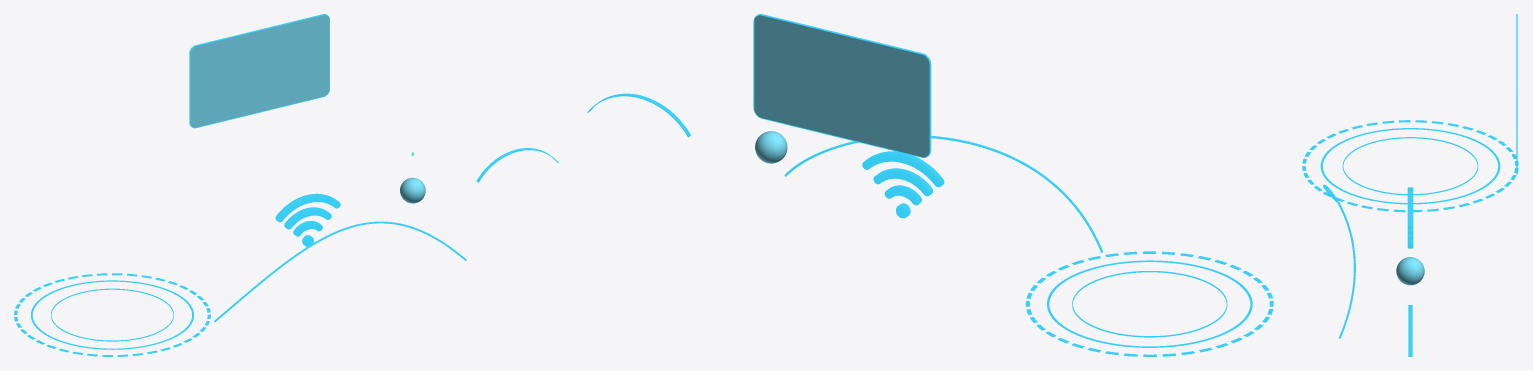
The model's file is holo_kit.glb.
3 renders of one model, left to right at view 1: azimuth 30°, elevation 25°; view 2: azimuth 150°, elevation 25°; view 3: azimuth 270°, elevation 25°, orthographic. The views are drawn at different scales.
Visible parts, largest first — view 1: Holo_Panel, Holo_Ring_Segmented, Holo_Ring_A, Holo_Path, Holo_WiFi_Arc3, Holo_Node, Holo_Ring_B, Holo_WiFi_Arc2; view 2: Holo_Panel, Holo_Ring_Segmented, Holo_Ring_A, Holo_WiFi_Arc3, Holo_Path, Holo_Node, Holo_Ring_B, Holo_WiFi_Arc2; view 3: Holo_Ring_Segmented, Holo_Ring_A, Holo_Node, Holo_Ring_B, Holo_Path, Holo_Panel, Holo_WiFi_Arc3, Holo_Wave.
Boxes of the visible parts, bbox=[...] form: Holo_Panel: bbox=[189, 14, 329, 128]; Holo_Ring_Segmented: bbox=[14, 273, 210, 356]; Holo_Ring_A: bbox=[31, 280, 193, 349]; Holo_Path: bbox=[214, 221, 466, 322]; Holo_WiFi_Arc3: bbox=[275, 193, 340, 222]; Holo_Node: bbox=[400, 177, 425, 203]; Holo_Ring_B: bbox=[51, 288, 173, 341]; Holo_WiFi_Arc2: bbox=[284, 207, 331, 229]; Holo_Panel: bbox=[753, 14, 931, 157]; Holo_Ring_Segmented: bbox=[1025, 251, 1273, 356]; Holo_Ring_A: bbox=[1047, 260, 1252, 347]; Holo_WiFi_Arc3: bbox=[862, 151, 944, 187]; Holo_Path: bbox=[784, 135, 1102, 252]; Holo_Node: bbox=[755, 131, 787, 163]; Holo_Ring_B: bbox=[1072, 271, 1227, 337]; Holo_WiFi_Arc2: bbox=[873, 168, 932, 196]; Holo_Ring_Segmented: bbox=[1302, 120, 1518, 212]; Holo_Ring_A: bbox=[1320, 128, 1500, 204]; Holo_Node: bbox=[1396, 257, 1424, 285]; Holo_Ring_B: bbox=[1342, 137, 1478, 195]; Holo_Path: bbox=[1323, 184, 1355, 338]; Holo_Panel: bbox=[1516, 14, 1517, 174]; Holo_WiFi_Arc3: bbox=[1407, 187, 1413, 228]; Holo_Wave: bbox=[1408, 305, 1412, 356].
Size of the model in its own units: 3.8 by 1.39 by 1.22.
